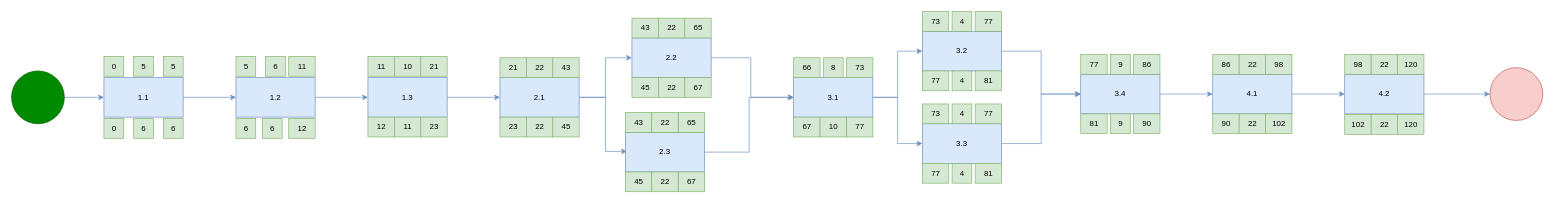
Image size: 1554x203. Some labels were removed from this diagram. The centre of each missing label's shape, as x and y in pixels:
"Finish" belongs at (1516,93).
"Start" belongs at (37,97).
